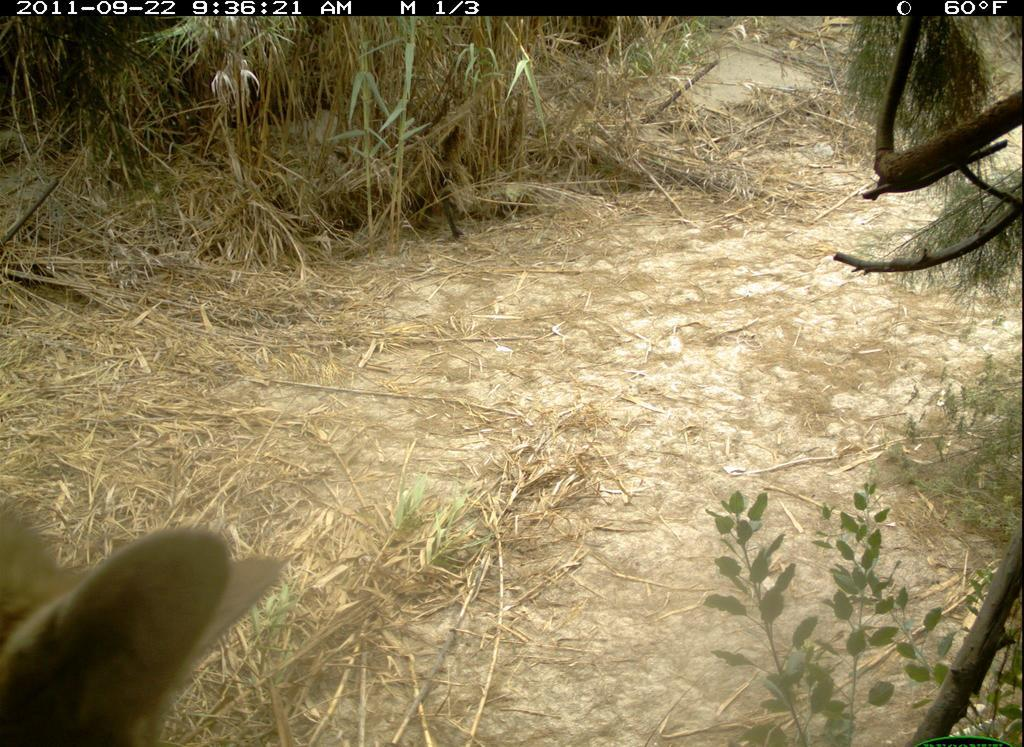coyote: (2, 495, 283, 747)
